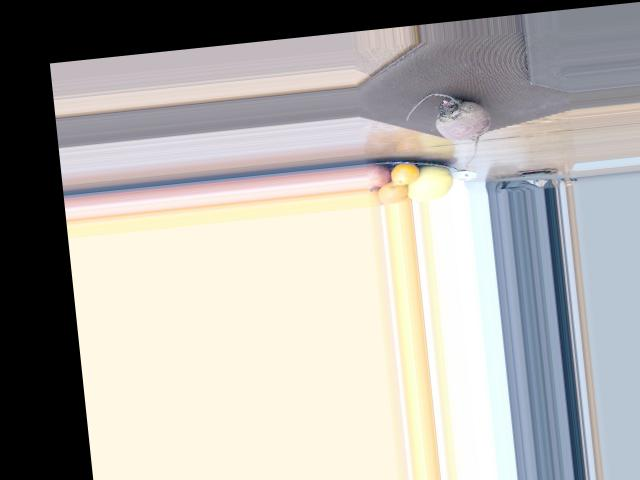beet: (404, 88, 495, 169)
